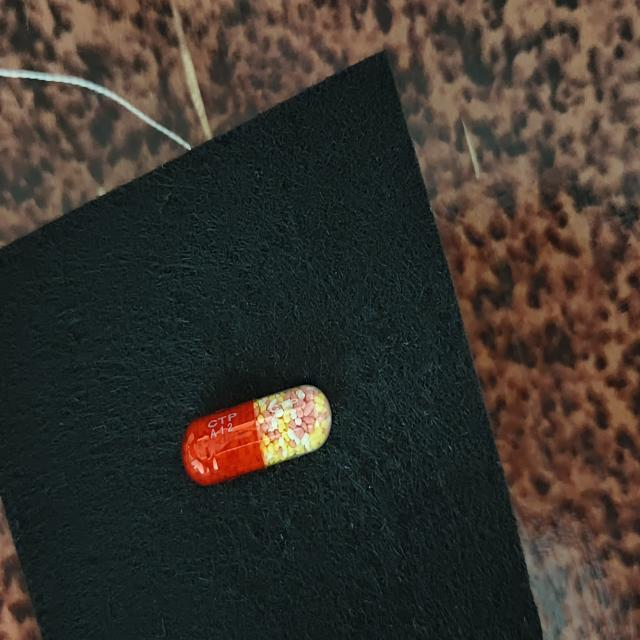Intact Capsule: (182, 385, 332, 486)
